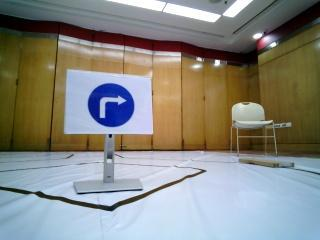right: (69, 71, 150, 133)
